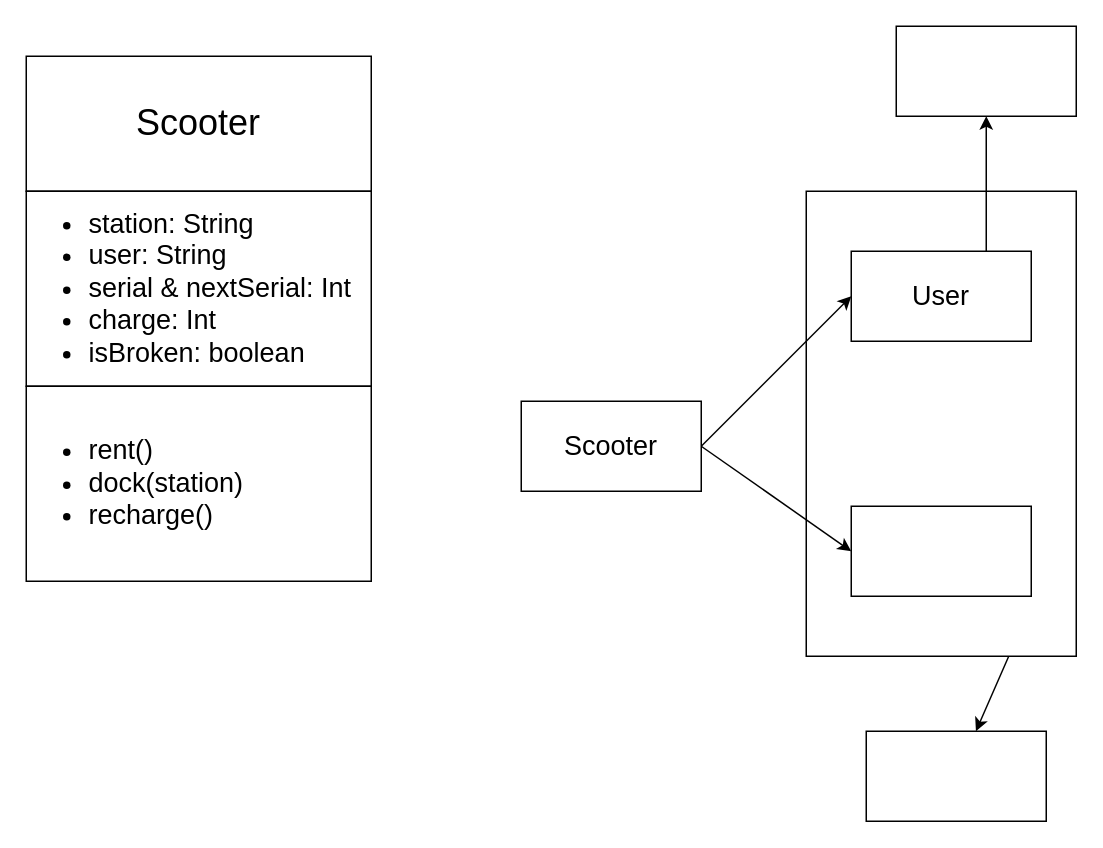
Some shapes in this 1103 by 848 pixel diagram are drawn without their labels. Each missing label, with the box of its shape:
isCharged: (850, 505, 1031, 596)
System boundary: (865, 730, 1046, 821)
Use case: (895, 25, 1076, 116)
